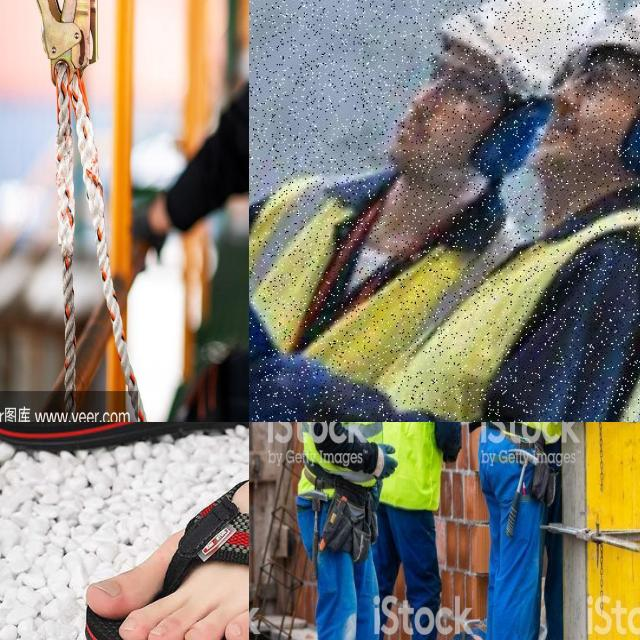Ear-protection: (460, 96, 557, 177)
Sandals: (72, 437, 249, 640)
hand_glove: (373, 438, 400, 493)
head_helmet: (453, 0, 607, 81), (587, 0, 640, 79)
person: (471, 422, 534, 640), (318, 422, 380, 640), (391, 422, 450, 640), (508, 422, 563, 640)
vest: (249, 172, 640, 422), (300, 422, 379, 493), (381, 422, 444, 508)
